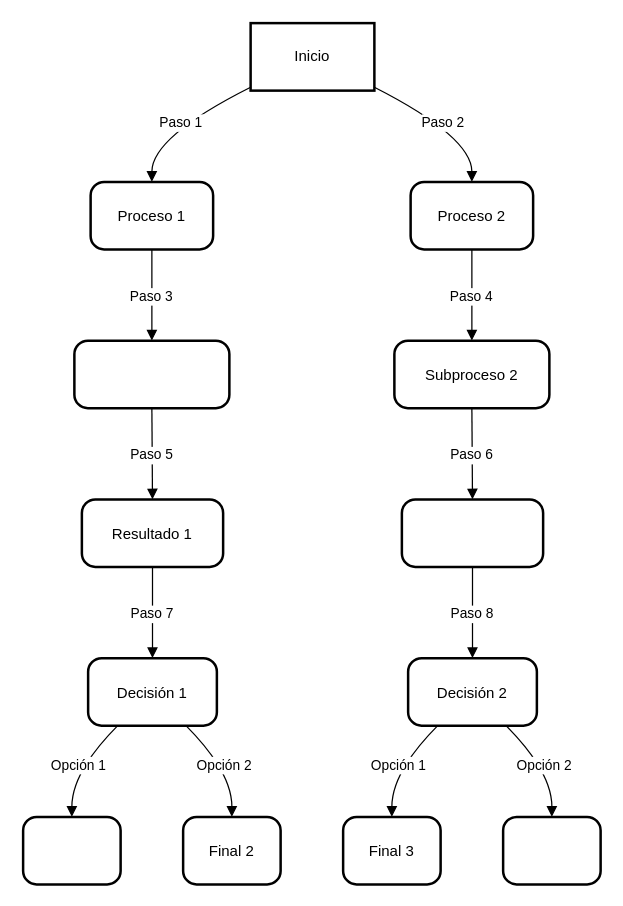
The diagram is 623 pixels wide and 906 high, and some of its shapes have lost their labels. The box of each missing label's shape, as (x1, y1, x2, y2) in pixels:
Final 1: (21, 815, 121, 885)
Final 4: (501, 815, 601, 885)
Resultado 2: (400, 498, 544, 568)
Subproceso 1: (72, 339, 230, 409)
